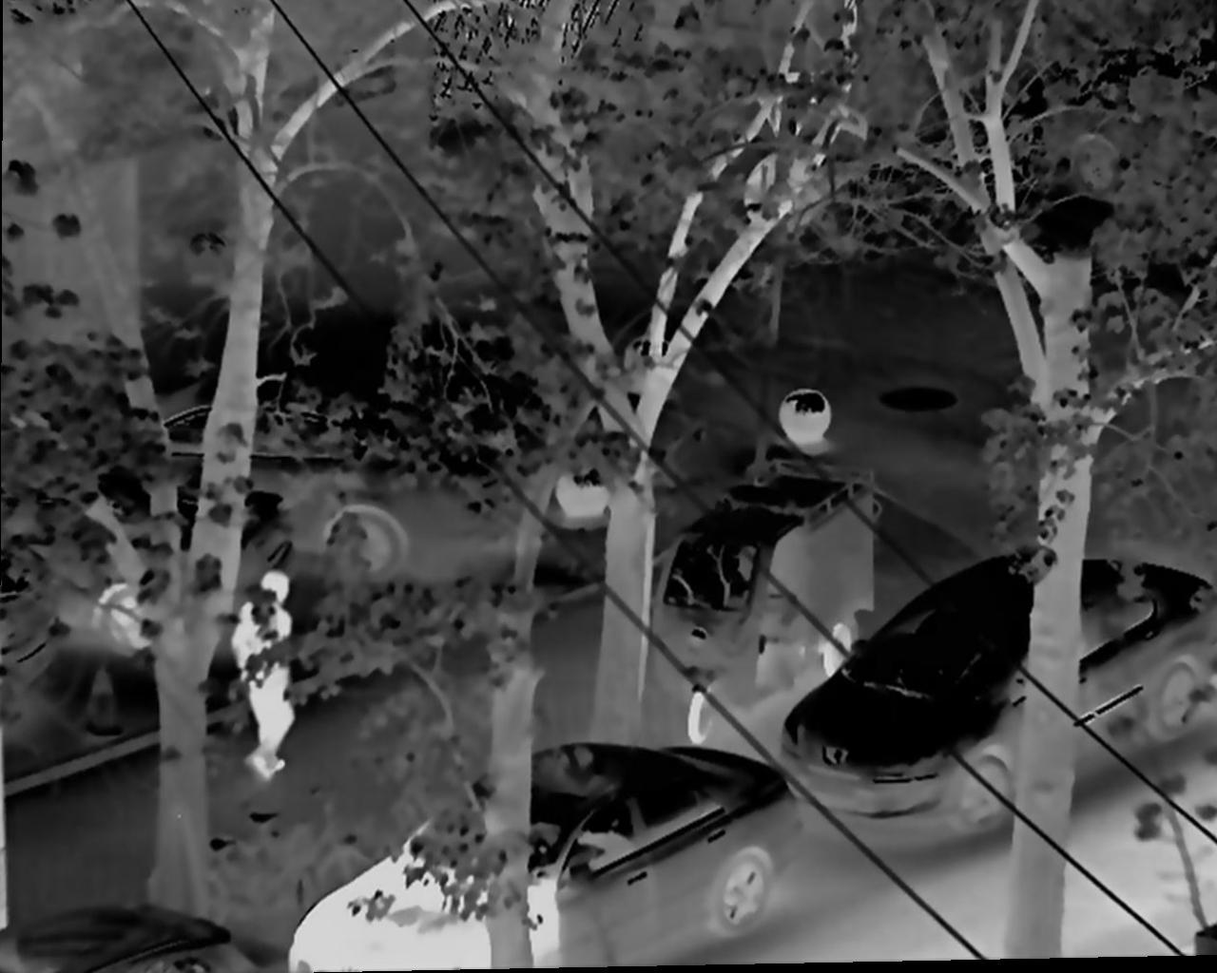person: (231, 565, 306, 789)
